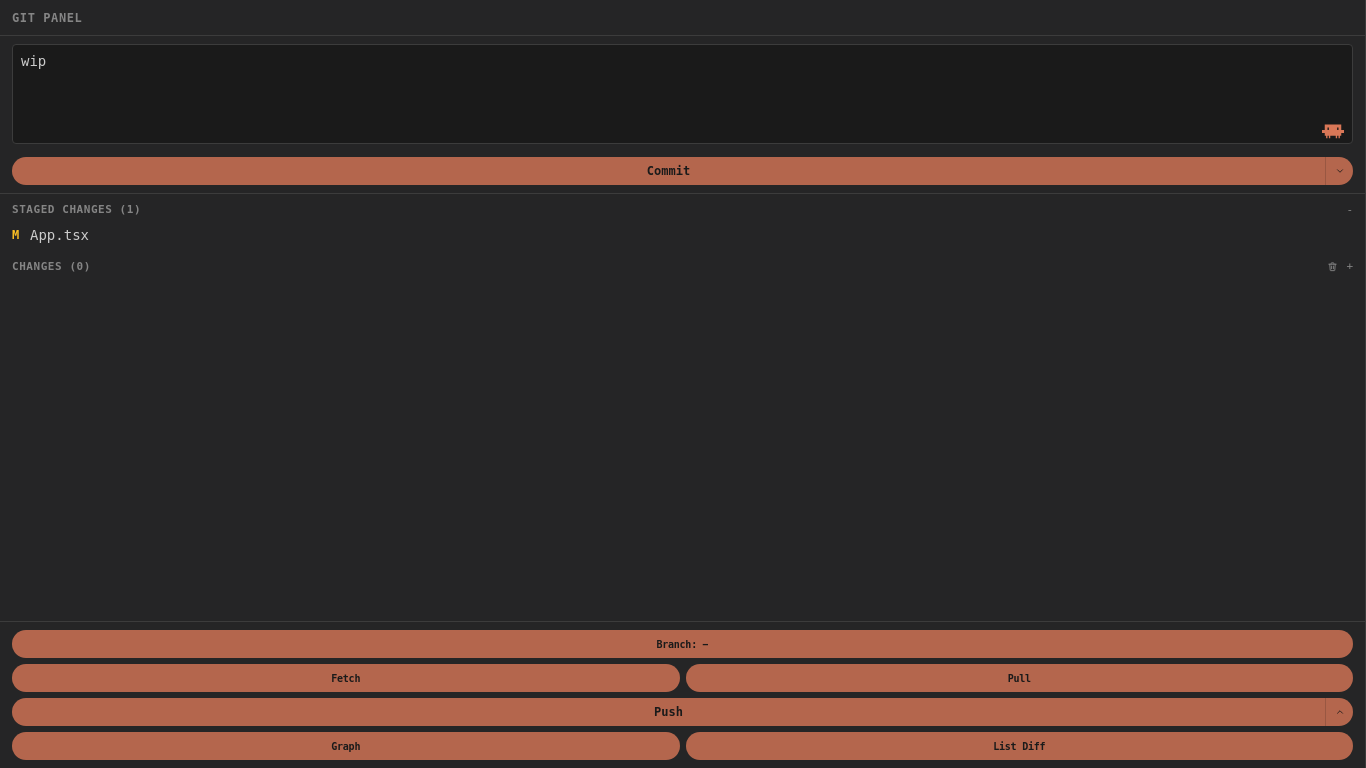
GitPanel — generate commit message › shows an error and leaves the message box alone when generation fails
The image size is (1366, 768).
Click the button titled "Generate commit message from staged changes with Claude" at (1333, 131), box [1319,117,1347,145]
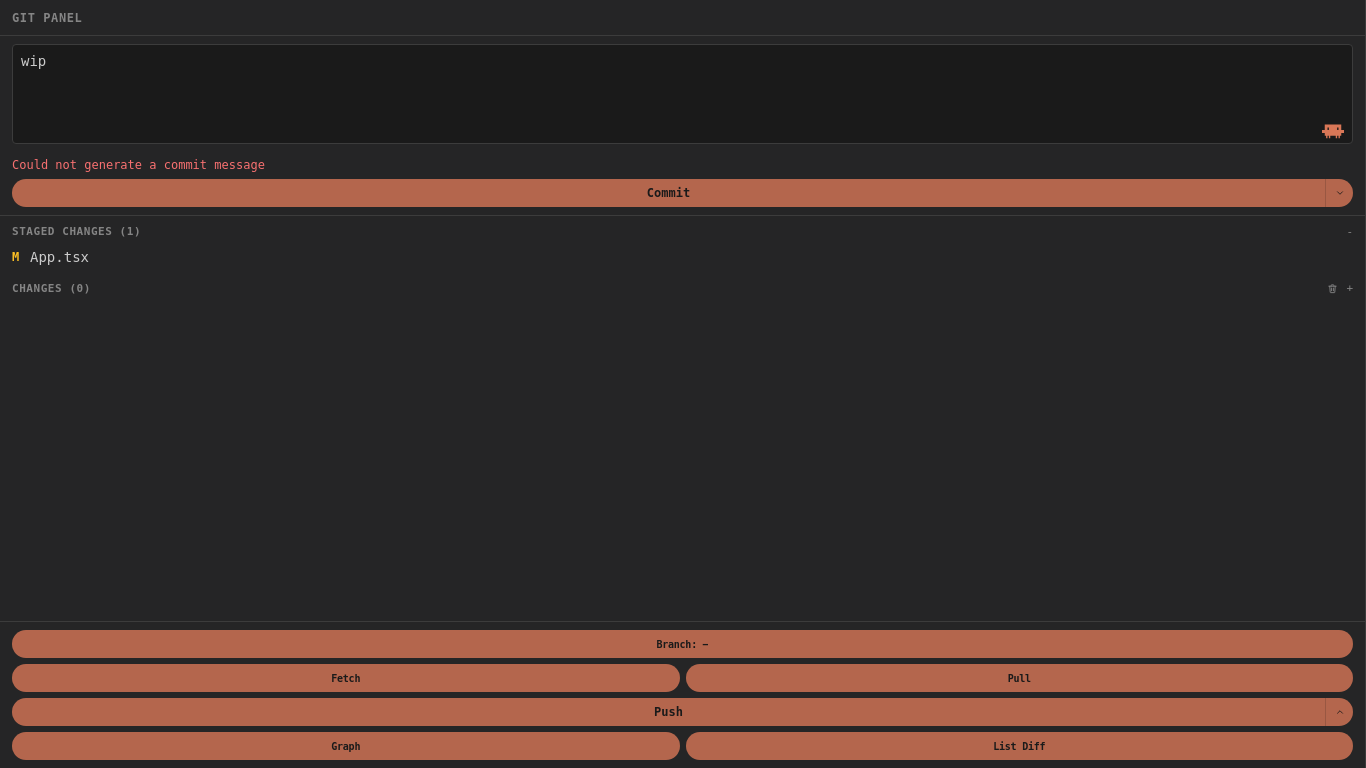
Check: the text "Could not generate a commit message" is shown, box [12,158,265,172]
